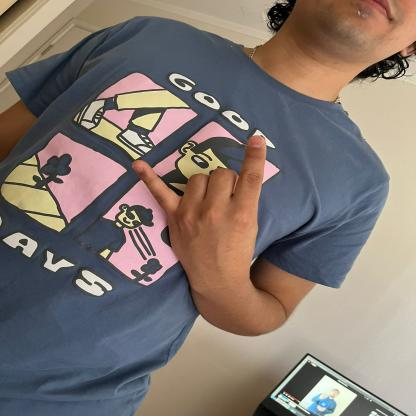U: (130, 126, 273, 276)
